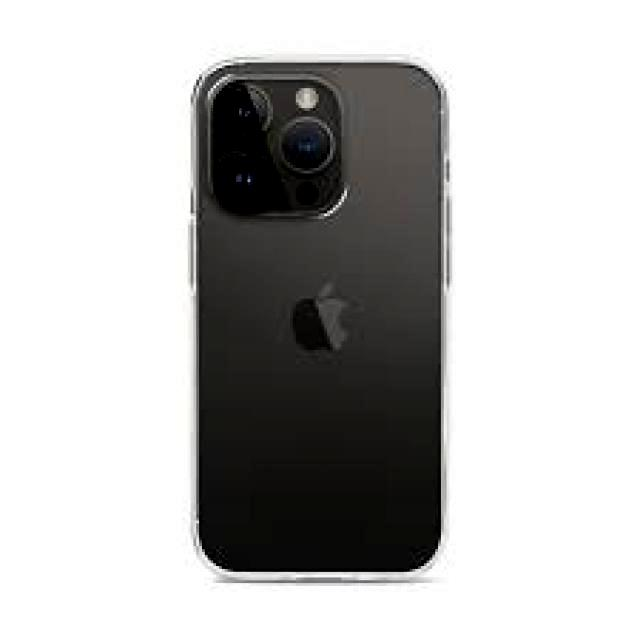lens_back: (214, 79, 276, 141), (276, 115, 338, 177), (213, 150, 273, 207)
phone: (185, 58, 450, 583)
